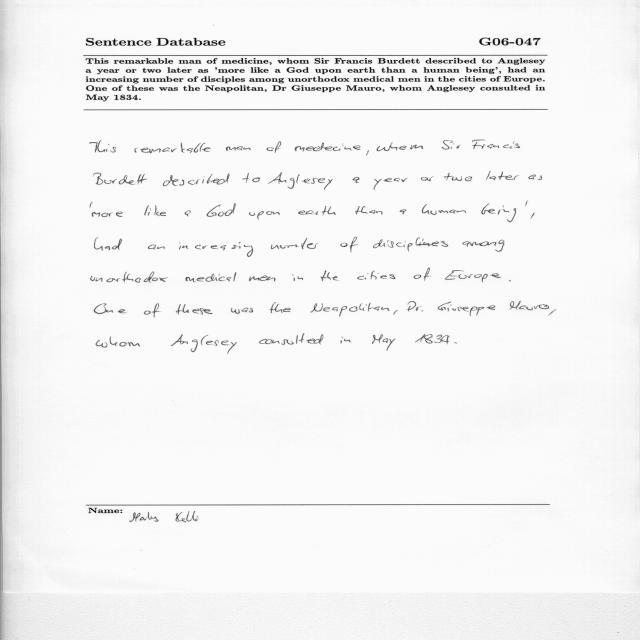word: (171, 334, 237, 354), (268, 173, 333, 191), (373, 237, 448, 252), (179, 242, 253, 257), (311, 303, 390, 316), (91, 271, 168, 283), (163, 174, 229, 187), (438, 302, 495, 316), (134, 143, 211, 153), (259, 333, 323, 345), (445, 270, 501, 283), (94, 173, 147, 185), (482, 204, 517, 222), (295, 143, 361, 152), (271, 238, 318, 249), (186, 273, 237, 283), (463, 240, 505, 252), (422, 204, 466, 215), (96, 337, 140, 348), (472, 140, 520, 149), (377, 143, 424, 152), (373, 178, 408, 190), (207, 203, 236, 217), (176, 304, 212, 315), (372, 334, 395, 351), (94, 238, 122, 251), (94, 303, 127, 314), (357, 271, 396, 280), (510, 301, 549, 310), (298, 206, 336, 215), (415, 334, 449, 344), (90, 141, 116, 153), (486, 172, 519, 181), (341, 237, 359, 252), (355, 206, 383, 215), (144, 205, 166, 216), (249, 211, 279, 219), (144, 303, 160, 318), (270, 303, 291, 314), (444, 173, 472, 181), (414, 268, 431, 281), (407, 301, 424, 312), (243, 173, 261, 183), (321, 271, 339, 281), (442, 140, 461, 149), (267, 142, 281, 154), (249, 276, 276, 282), (92, 212, 123, 217), (231, 308, 253, 314), (226, 146, 251, 151), (148, 245, 165, 250), (292, 274, 303, 281), (341, 337, 352, 344), (528, 175, 542, 180), (421, 177, 434, 182), (548, 309, 556, 316), (353, 177, 359, 183), (185, 211, 191, 217), (400, 209, 406, 214), (531, 213, 535, 219), (394, 310, 398, 315), (366, 150, 369, 156), (90, 202, 93, 207), (526, 201, 528, 206), (454, 343, 457, 344), (509, 280, 511, 281)
